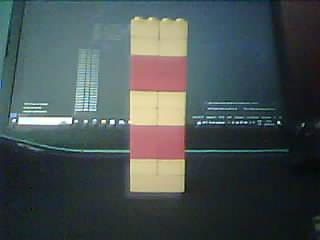lego: (127, 15, 190, 194)
